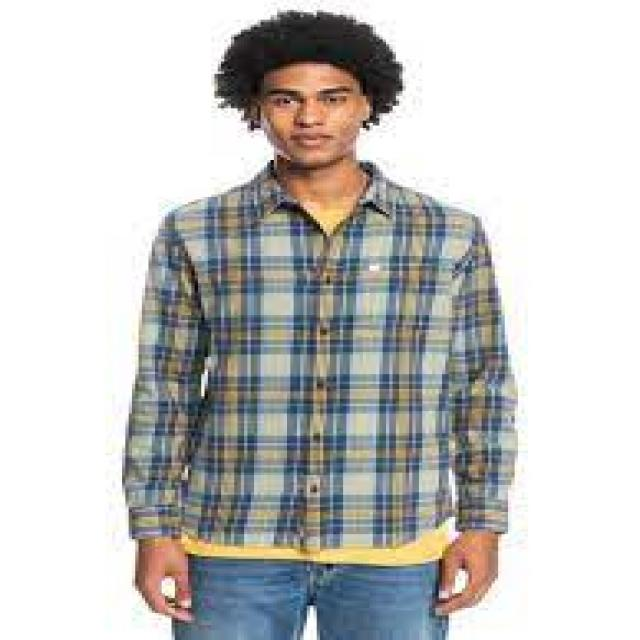plaid: (124, 152, 521, 563)
